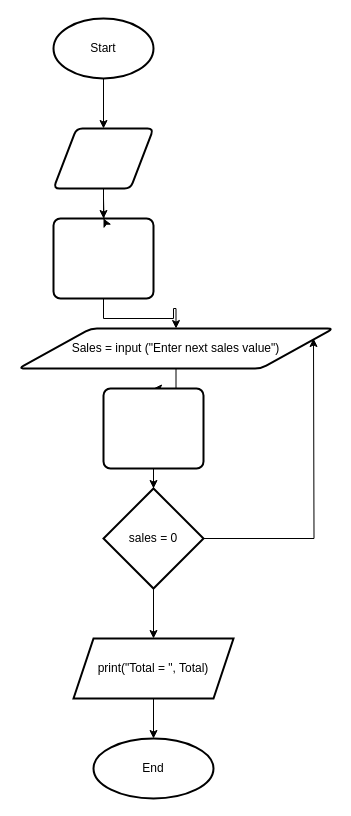
Image size: 351x816. Some labels were removed from this diagram. Here are the shapes that lost their labels. From the top down, the centre of each, then its label:
At [103,158]: "total = 0".
At [103,258]: "Do".
At [153,428]: "Add Sales to total".
